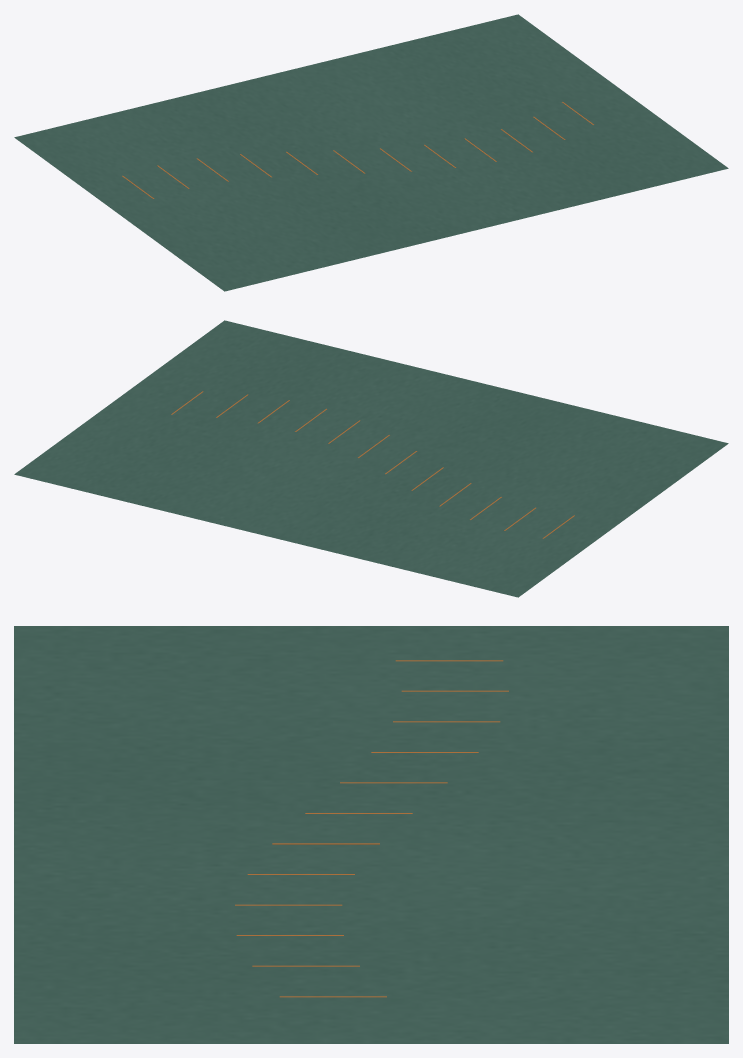
The model's file is 291_L120_L26_LayerReference.obj.
3 views of the same model, one above another, from view 1: azimuth 30°, elevation 25°; view 2: azimuth 150°, elevation 25°; view 3: azimuth 270°, elevation 25° (orthographic). The views are drawn at different scales.
Parts seen in each view (by area): view 1: 291_L120_L26_LayerReference; view 2: 291_L120_L26_LayerReference; view 3: 291_L120_L26_LayerReference.
Part boxes in pixels (x1,y1,x2,y2): 291_L120_L26_LayerReference: [14, 14, 728, 291]; 291_L120_L26_LayerReference: [14, 320, 728, 597]; 291_L120_L26_LayerReference: [14, 626, 728, 1043].
Size of the model in its own units: 0.506 by 6.4e-05 by 0.366.
2 materials, 2 textured.
